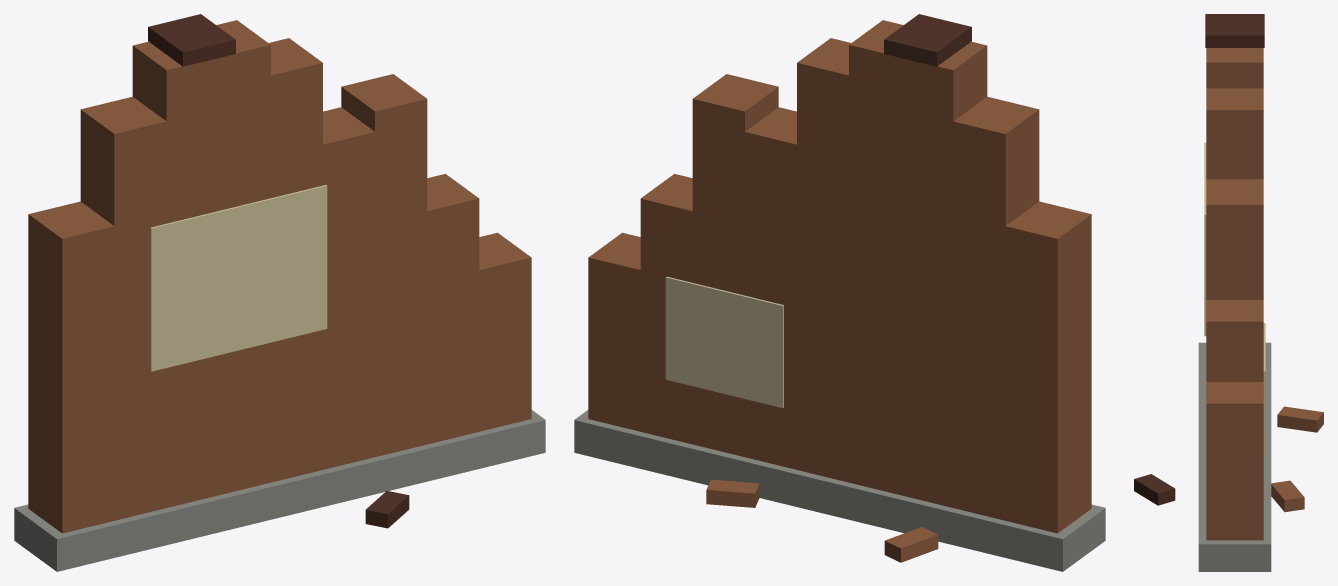
The model's file is wall_chunk.glb.
3 renders of one model, left to right at view 1: azimuth 30°, elevation 25°; view 2: azimuth 150°, elevation 25°; view 3: azimuth 270°, elevation 25°, orthographic. The views are drawn at different scales.
Visible parts, largest first — view 1: wall_chunk; view 2: wall_chunk; view 3: wall_chunk.
Boxes of the visible parts, box(x1,y1,x2,y2) form: wall_chunk: box(14, 14, 545, 571); wall_chunk: box(574, 14, 1105, 571); wall_chunk: box(1134, 14, 1323, 571).
Bounding box in the file's own units: 2.5 × 2.37 × 0.9945.
